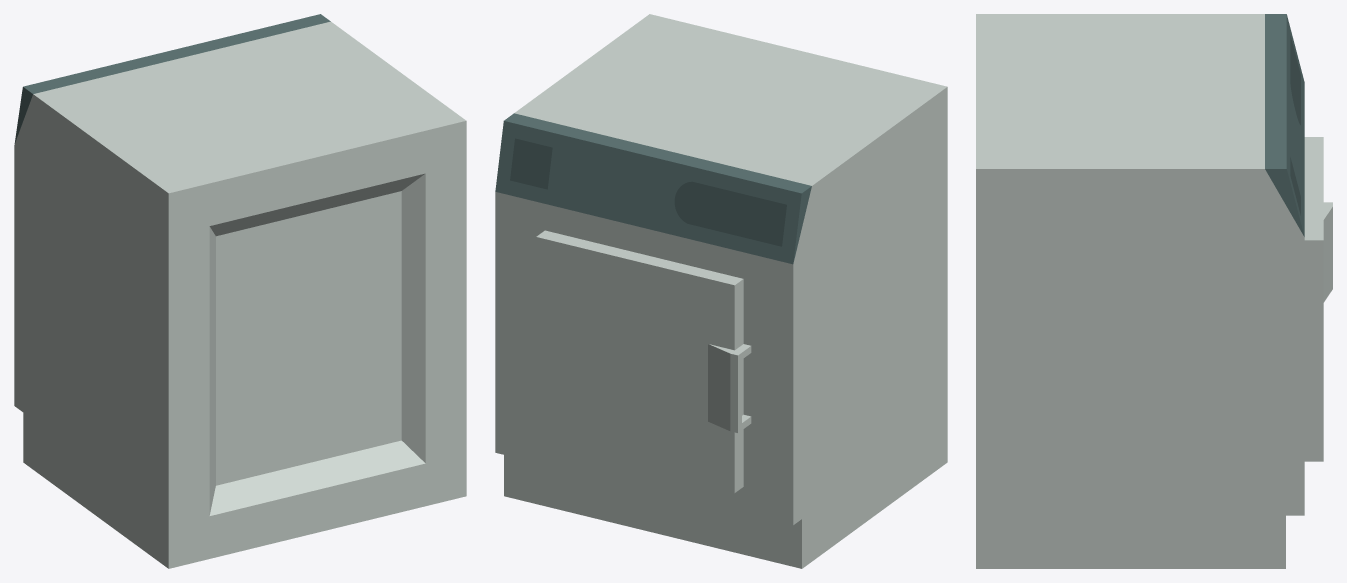
The model's file is dryer.fbx.
The picture shows the model from 3 angles, left to right: view 1: azimuth 30°, elevation 25°; view 2: azimuth 150°, elevation 25°; view 3: azimuth 270°, elevation 25°; orthographic projection. The views are drawn at different scales.
Parts seen in each view (by area): view 1: dryer; view 2: dryer, dryerDoor; view 3: dryer, dryerDoor.
Part boxes in pixels (x1,y1,x2,y2): dryer: (14, 14, 466, 568); dryer: (495, 14, 947, 568); dryerDoor: (536, 230, 751, 492); dryer: (976, 14, 1304, 568); dryerDoor: (1304, 137, 1332, 461).
Bounding box in the file's own units: 3.9 × 4.7 × 3.8.
